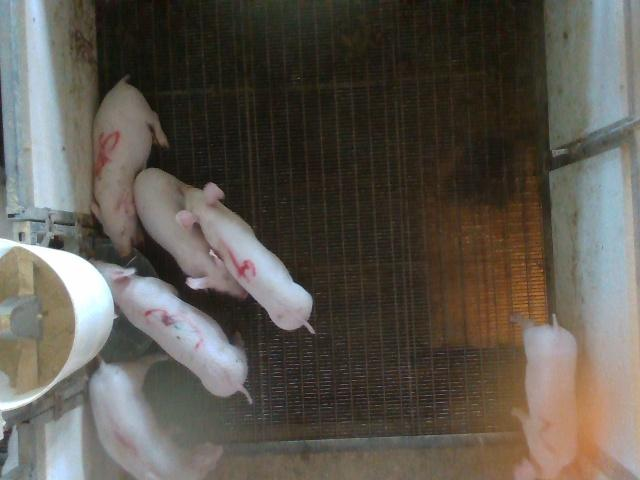pig-1: (89, 362, 184, 479)
pig-2: (518, 316, 578, 478)
pig-3: (91, 262, 251, 401)
pig-4: (179, 182, 314, 333)
pig-5: (91, 76, 169, 256)
